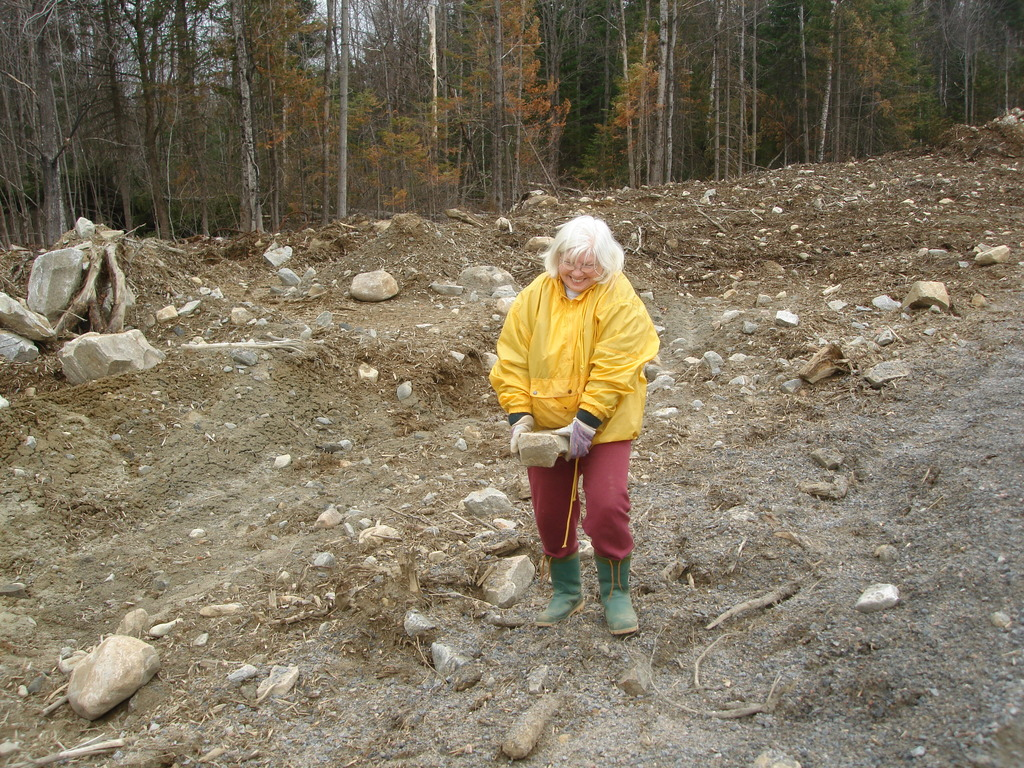Tree: (0, 0, 1023, 231)
